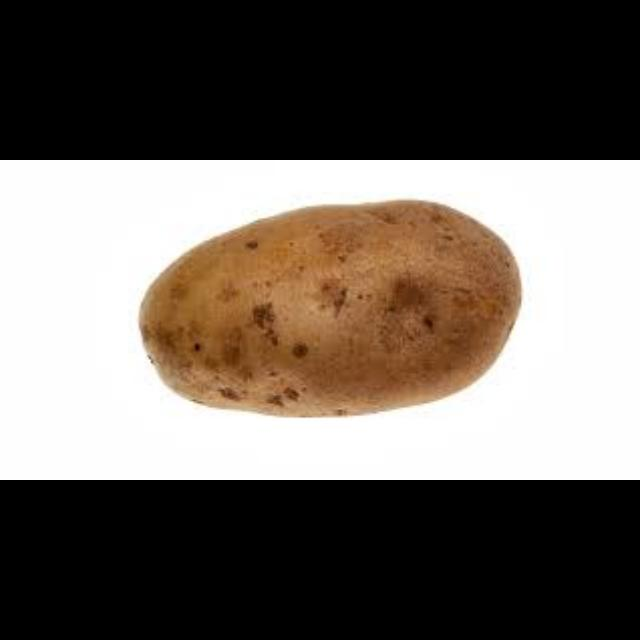Diseased-fungal potato: (129, 200, 555, 426)
